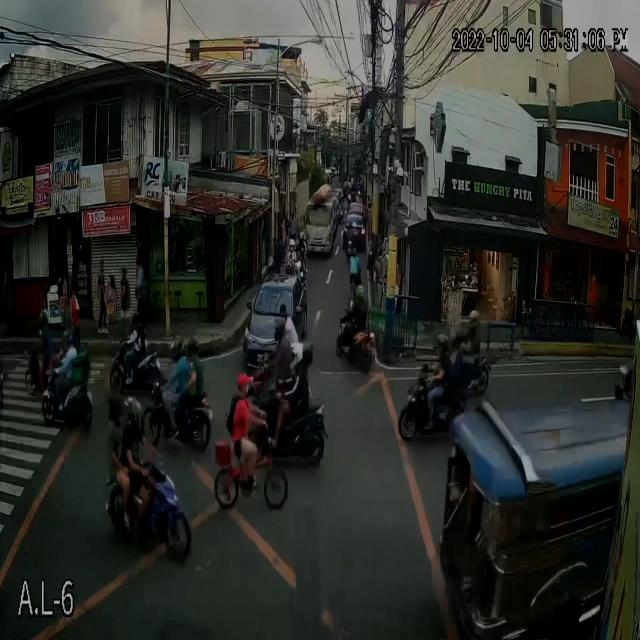Full-Faced: (165, 333, 188, 363), (122, 315, 141, 342), (125, 398, 143, 425), (107, 391, 124, 418), (287, 341, 303, 368), (58, 329, 73, 354), (465, 307, 480, 332), (188, 333, 202, 359), (436, 332, 449, 357), (274, 316, 286, 340), (355, 282, 368, 303), (299, 230, 308, 243), (287, 237, 295, 251)
Not-Wearing-Helmet: (236, 372, 251, 398), (351, 246, 361, 264)
